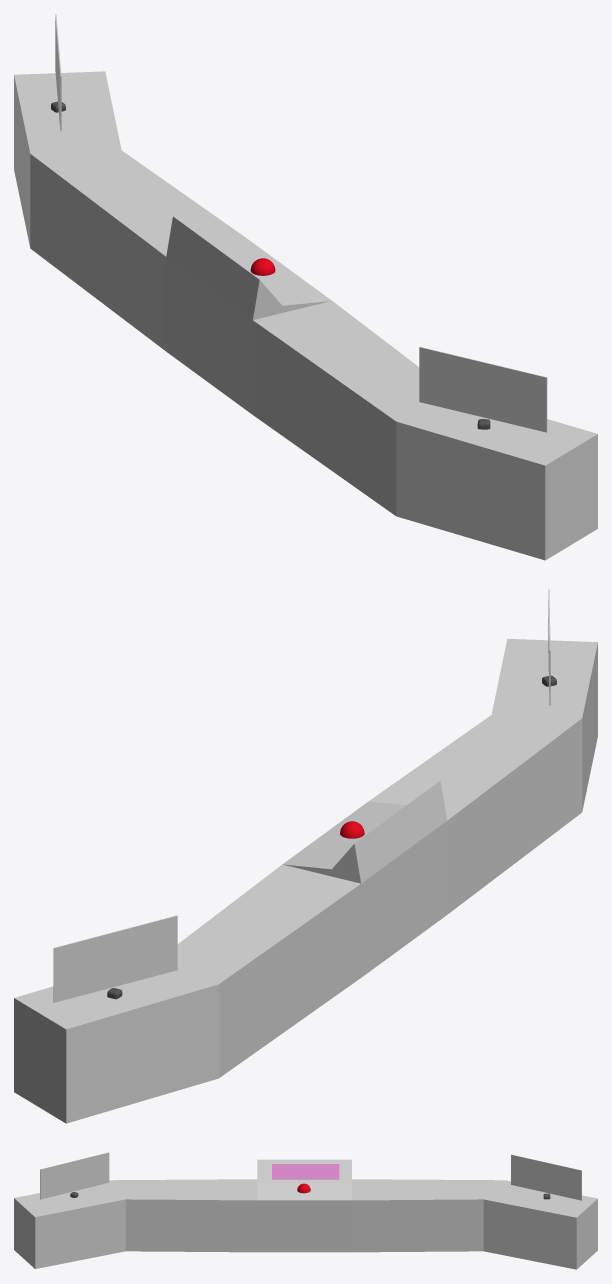
The model's file is SecDesk1.fbx.
3 renders of one model, top to bottom at view 1: azimuth 30°, elevation 25°; view 2: azimuth 150°, elevation 25°; view 3: azimuth 270°, elevation 25°, orthographic. The views are drawn at different scales.
Parts seen in each view (by area): view 1: Cube, Plane.002; view 2: Cube, Plane.001; view 3: Cube, Plane.001, Plane.002, Plane.
Boxes of the visible parts, left/top/right/bottom form: Cube: left=14, top=71, right=597, bottom=560; Plane.002: left=419, top=347, right=547, bottom=432; Cube: left=14, top=638, right=597, bottom=1123; Plane.001: left=53, top=915, right=177, bottom=1002; Cube: left=14, top=1159, right=597, bottom=1269; Plane.001: left=511, top=1154, right=581, bottom=1200; Plane.002: left=40, top=1152, right=109, bottom=1199; Plane: left=272, top=1164, right=339, bottom=1179.
Bounding box in the file's own units: 192 × 203 × 1231.
